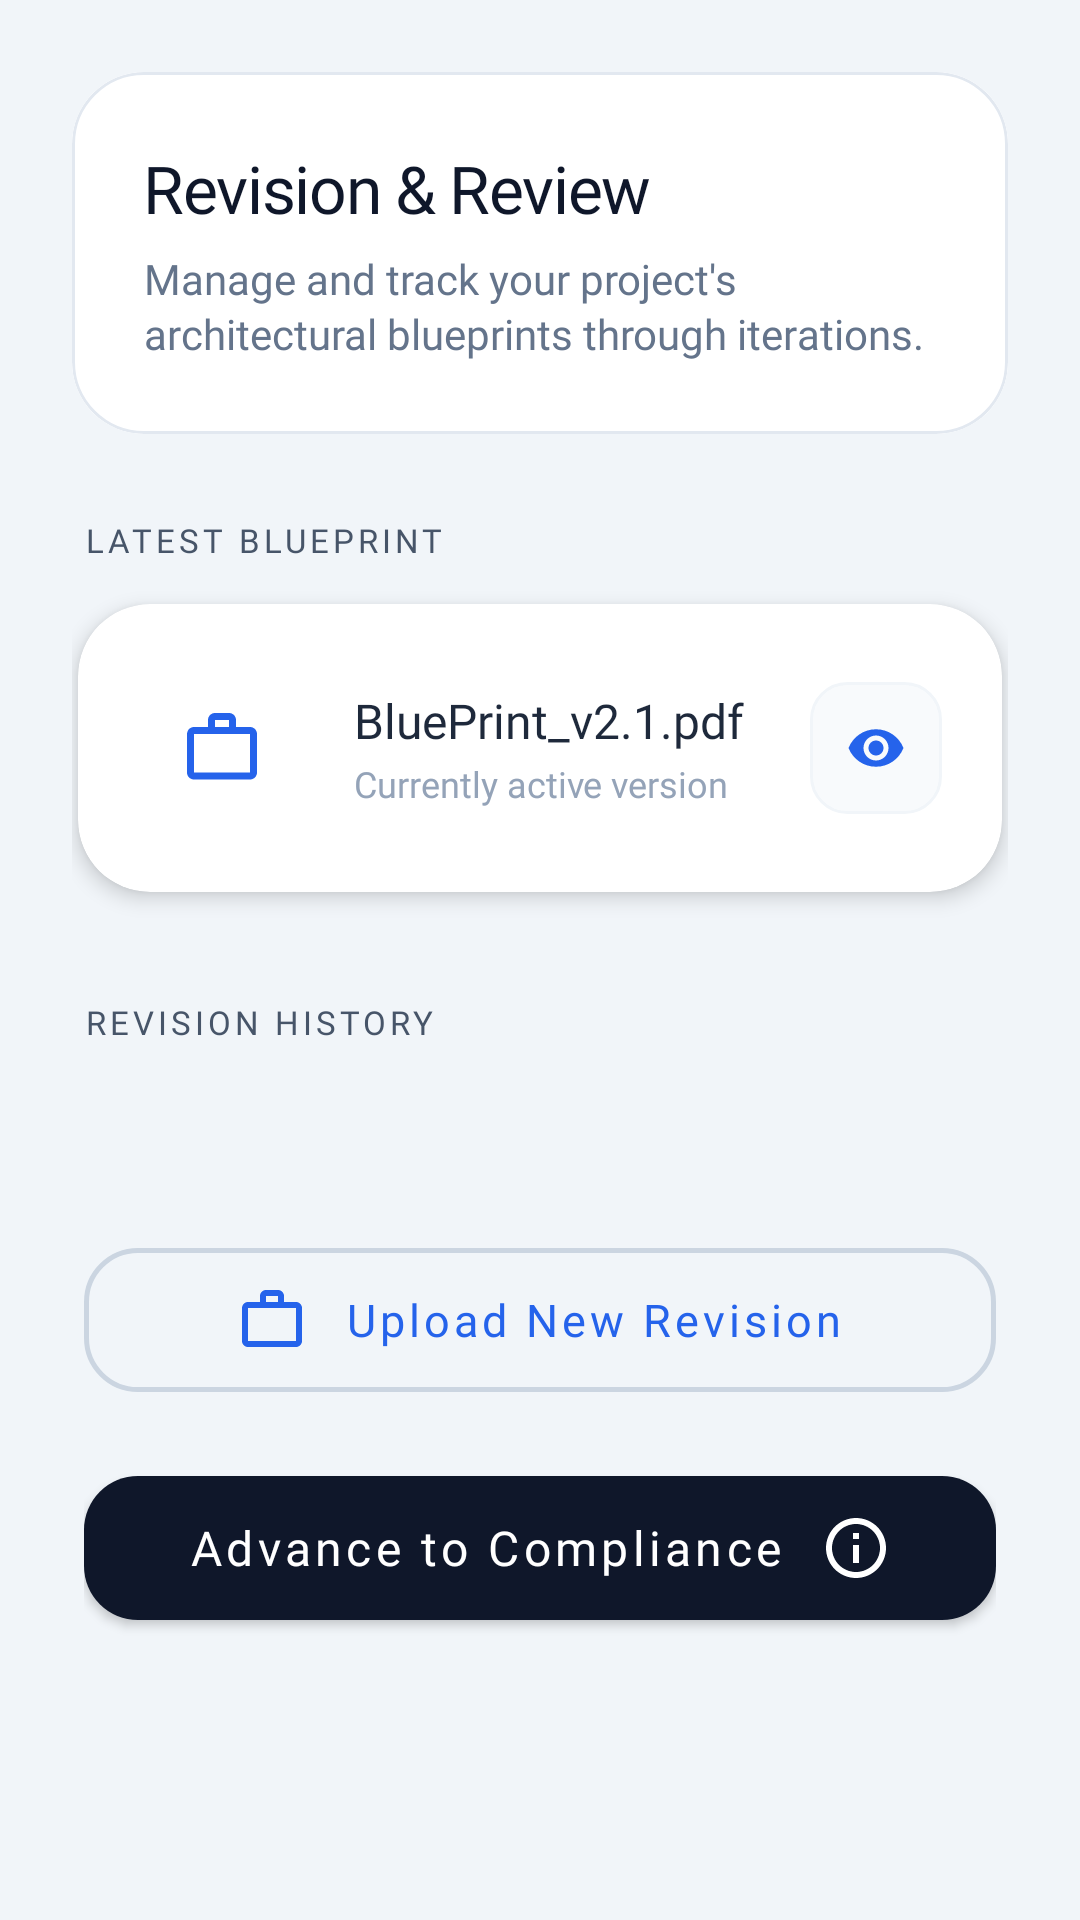

Screen size 1080 × 1920. Icon name, then its box in pixels as [x1=x1, y1=y1, x2=x2, y2=y2]:
eye: [x1=848, y1=729, x2=904, y2=767]
work: [x1=187, y1=713, x2=257, y2=780]
